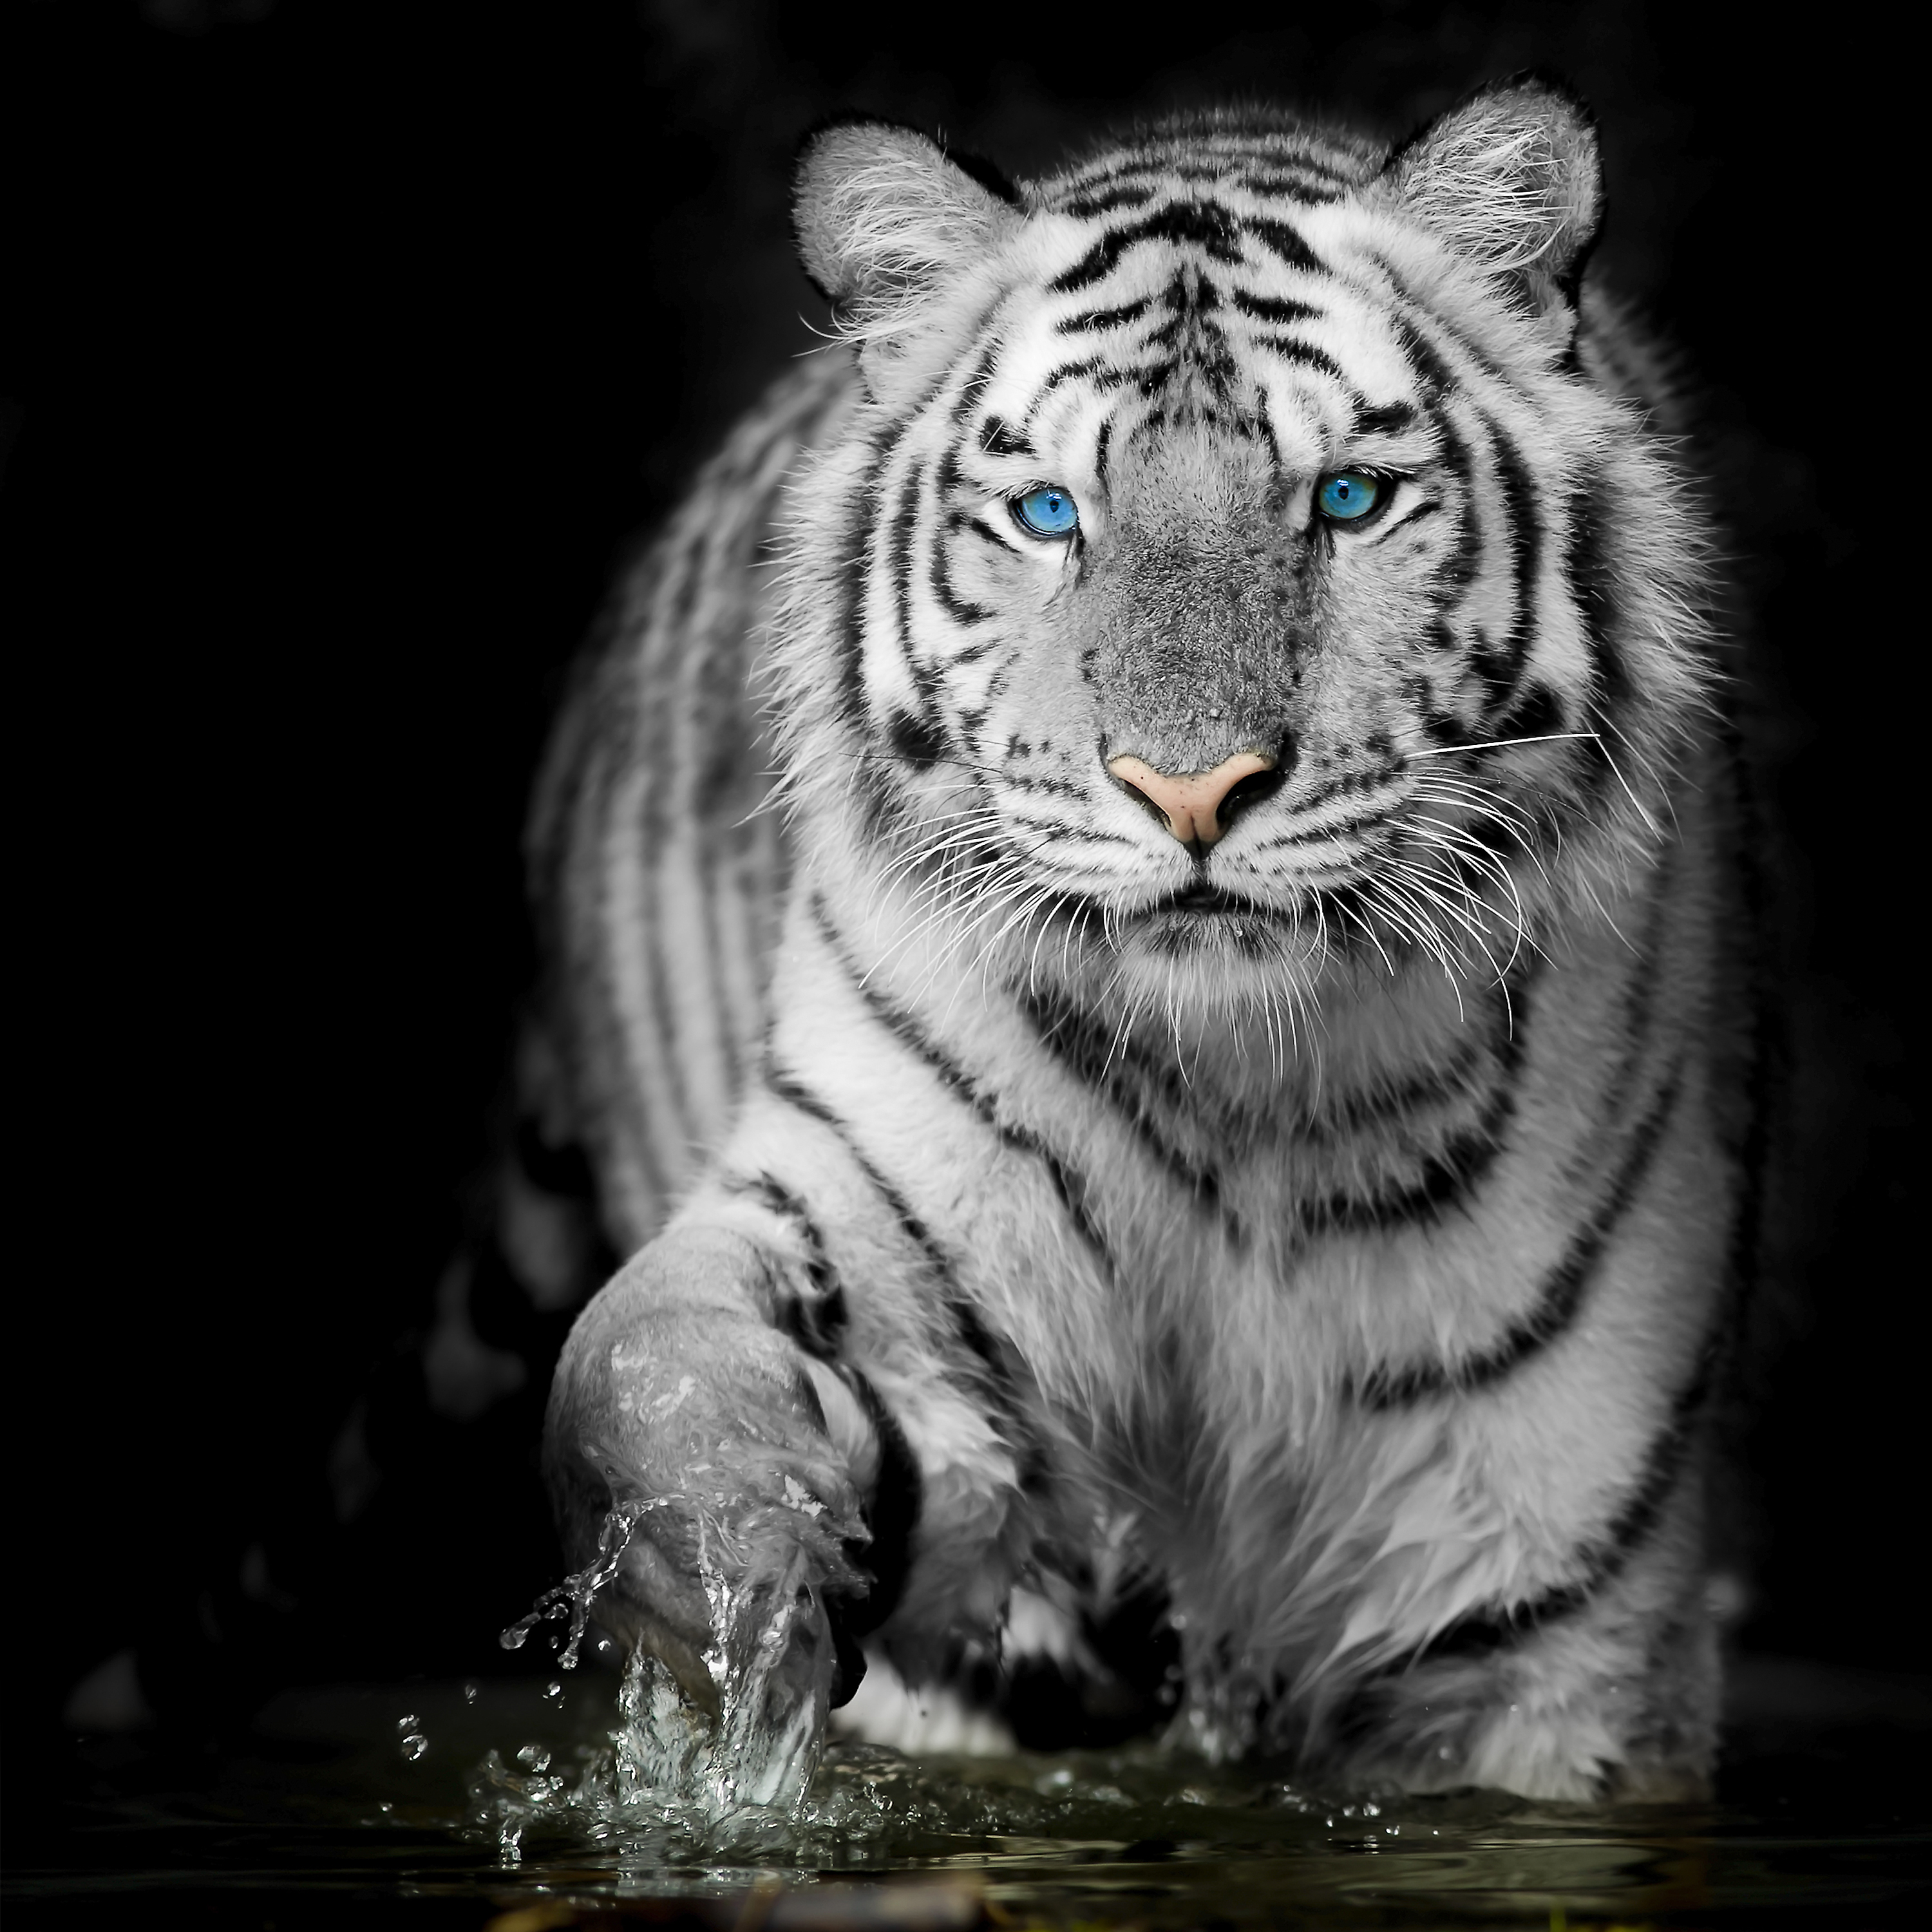tiger: (474, 62, 1796, 1810)
